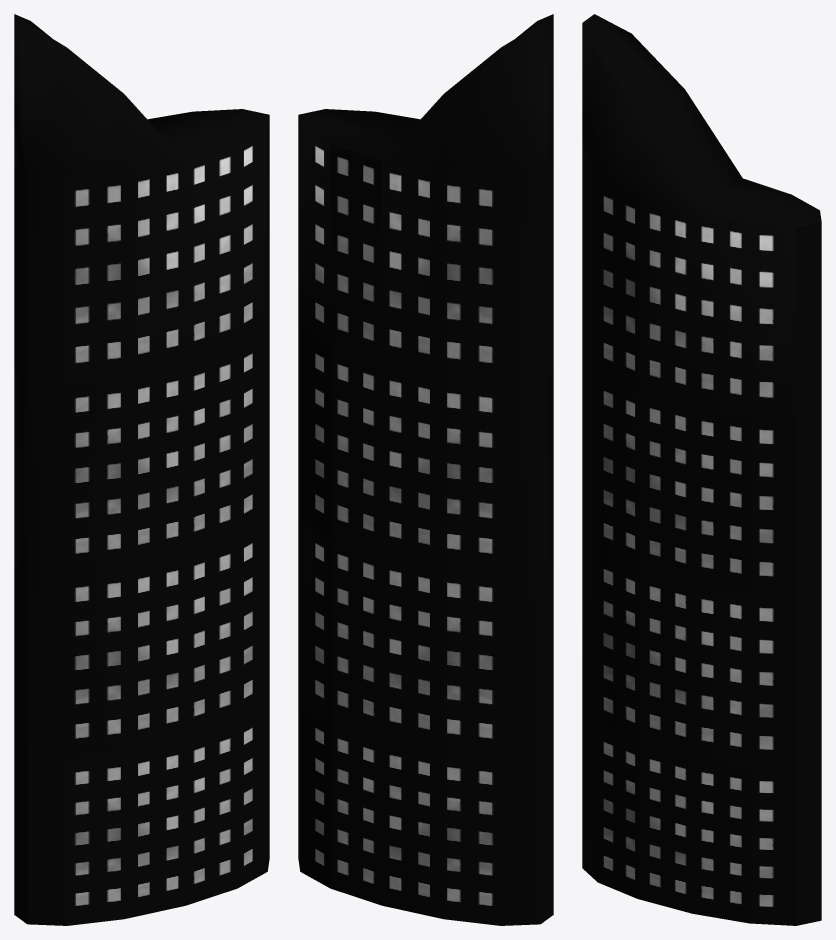
The model's file is house02.dae.
3 views of the same model, side by side, from view 1: azimuth 30°, elevation 25°; view 2: azimuth 150°, elevation 25°; view 3: azimuth 330°, elevation 25° (orthographic). The views are drawn at different scales.
Parts seen in each view (by area): view 1: pCylinder1; view 2: pCylinder1; view 3: pCylinder1.
Part boxes in pixels (box(x1,y1,x2,y2)): pCylinder1: box(14, 14, 269, 925); pCylinder1: box(298, 14, 553, 925); pCylinder1: box(582, 14, 821, 925).
Size of the model in its own units: 16.21 by 56.11 by 6.09.
Materials: 1 (1 with a texture image).
